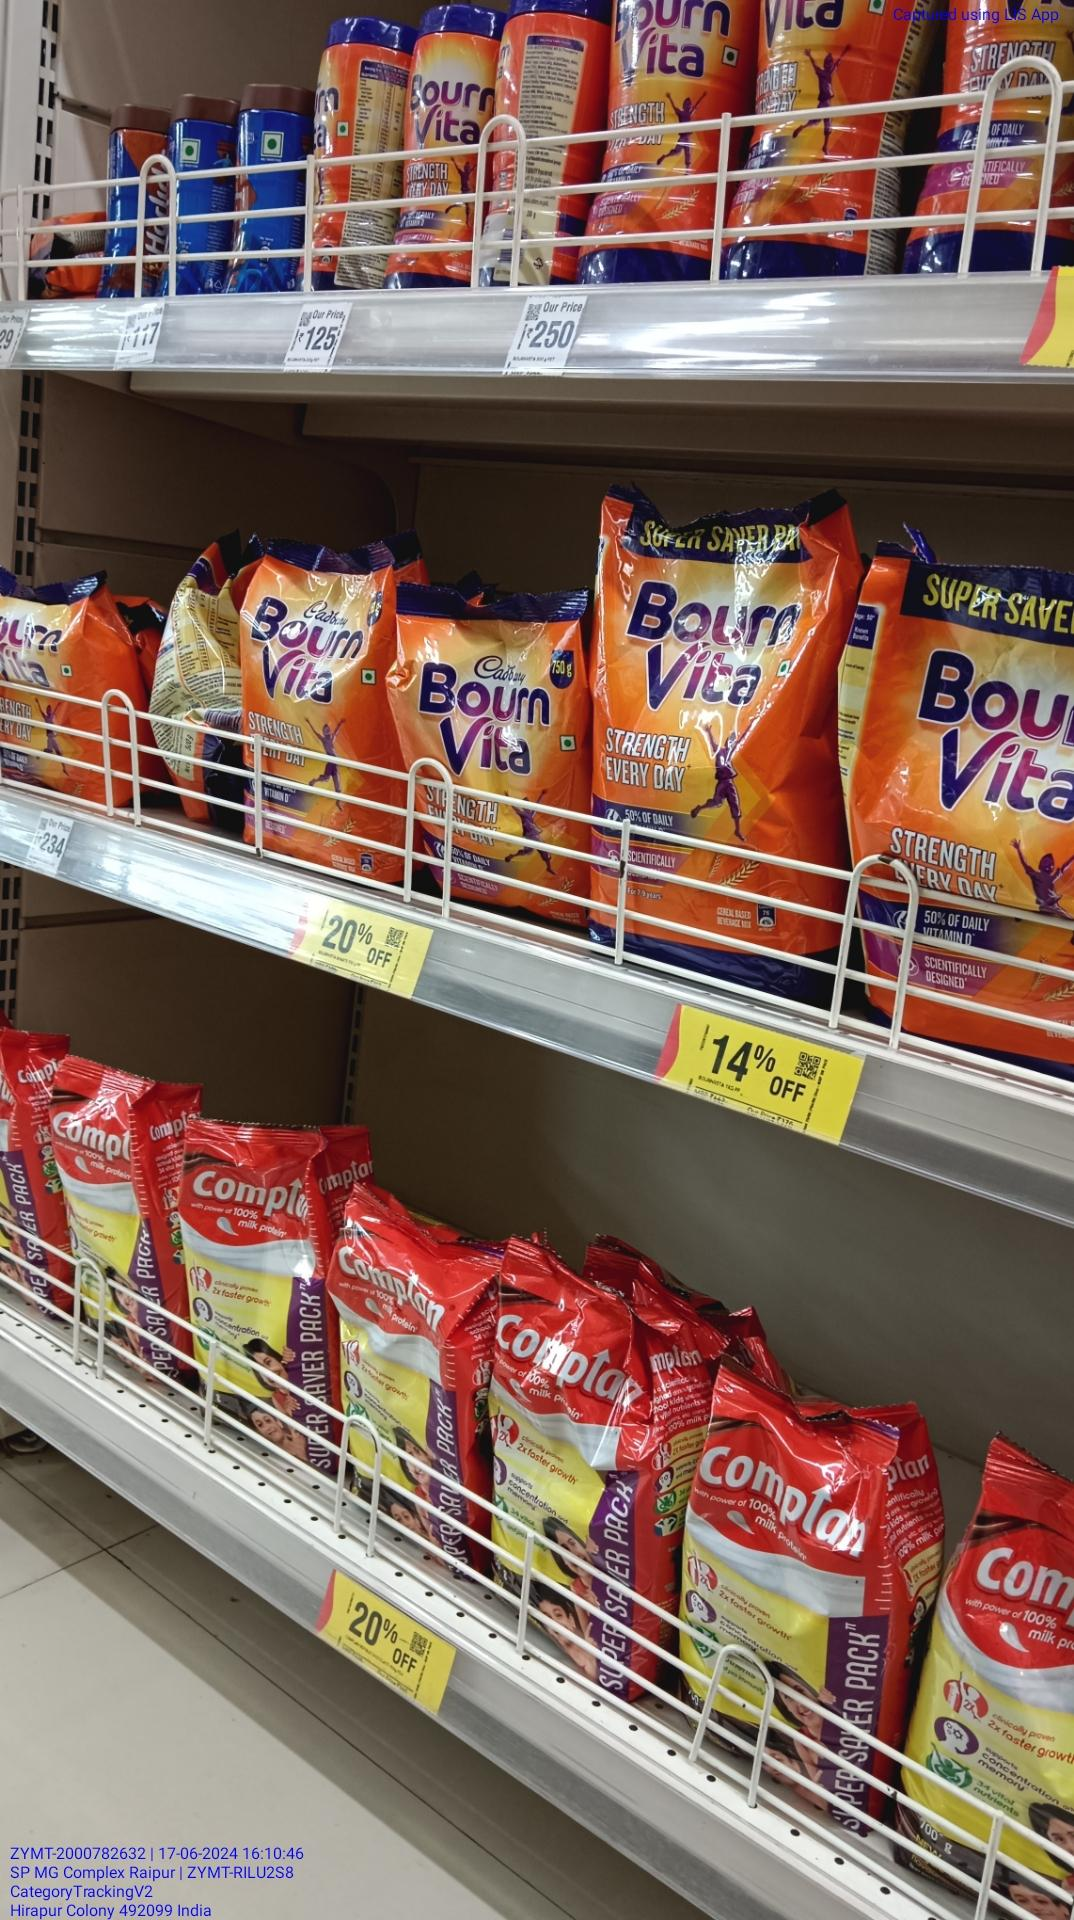BOURN_VITA_1_KG_JAR: (591, 0, 736, 281)
BOURN_VITA_1_KG_POUCH: (594, 487, 840, 990), (855, 559, 1074, 1067)
BOURN_VITA_500_G_JAR: (393, 0, 490, 290)
BOURN_VITA_750_G_POUCH: (397, 588, 587, 928), (244, 542, 395, 876)
COMPLAN_RC_POUCH_700_GMS_12: (686, 1374, 892, 1833), (490, 1261, 641, 1689), (186, 1130, 335, 1465), (342, 1217, 472, 1568), (61, 1068, 177, 1362)
